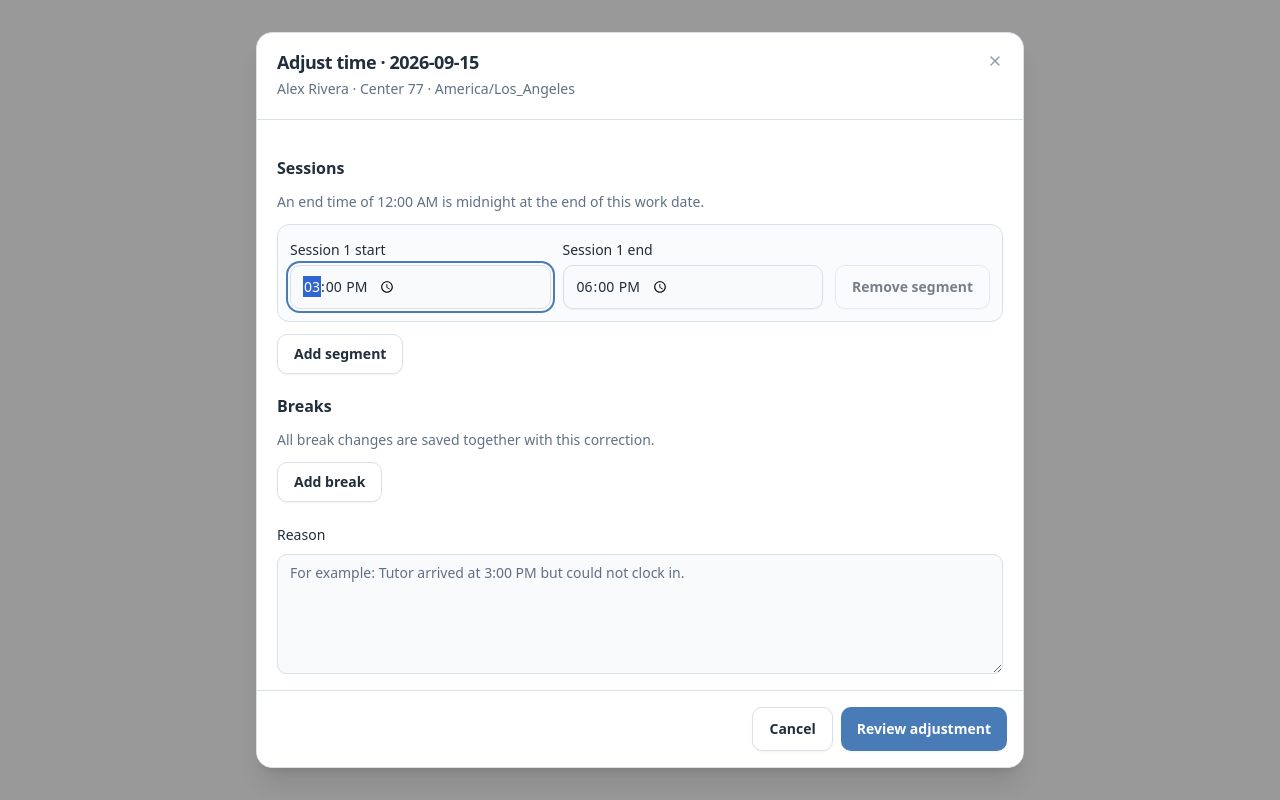
Test: stale child replacement can restart from latest while keeping prior edits visible
Replace the text in the time field labelled "Session 1 end" with "18:15" at point(693, 287), box [562,265,823,309]
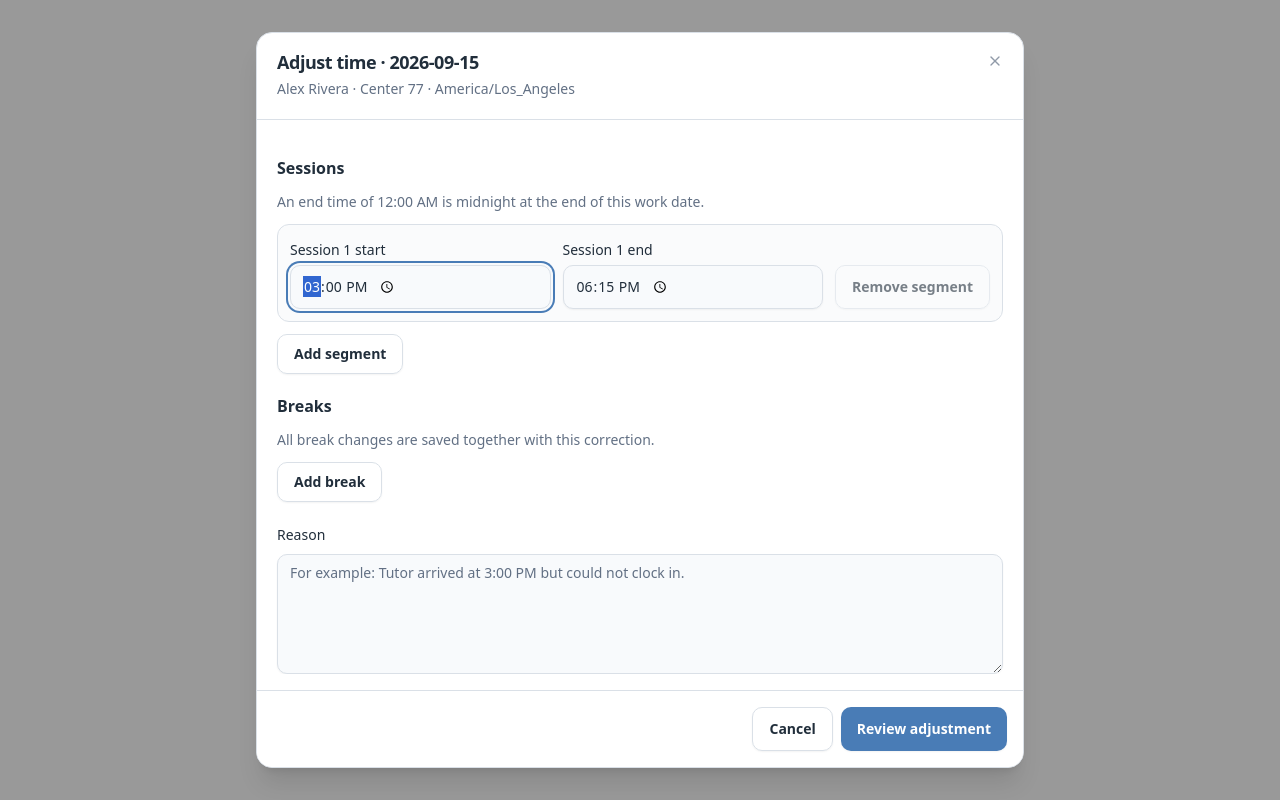
Replace the text in the text box labelled "Reason" with "Correct session end" at point(640, 614), box [277,554,1003,674]
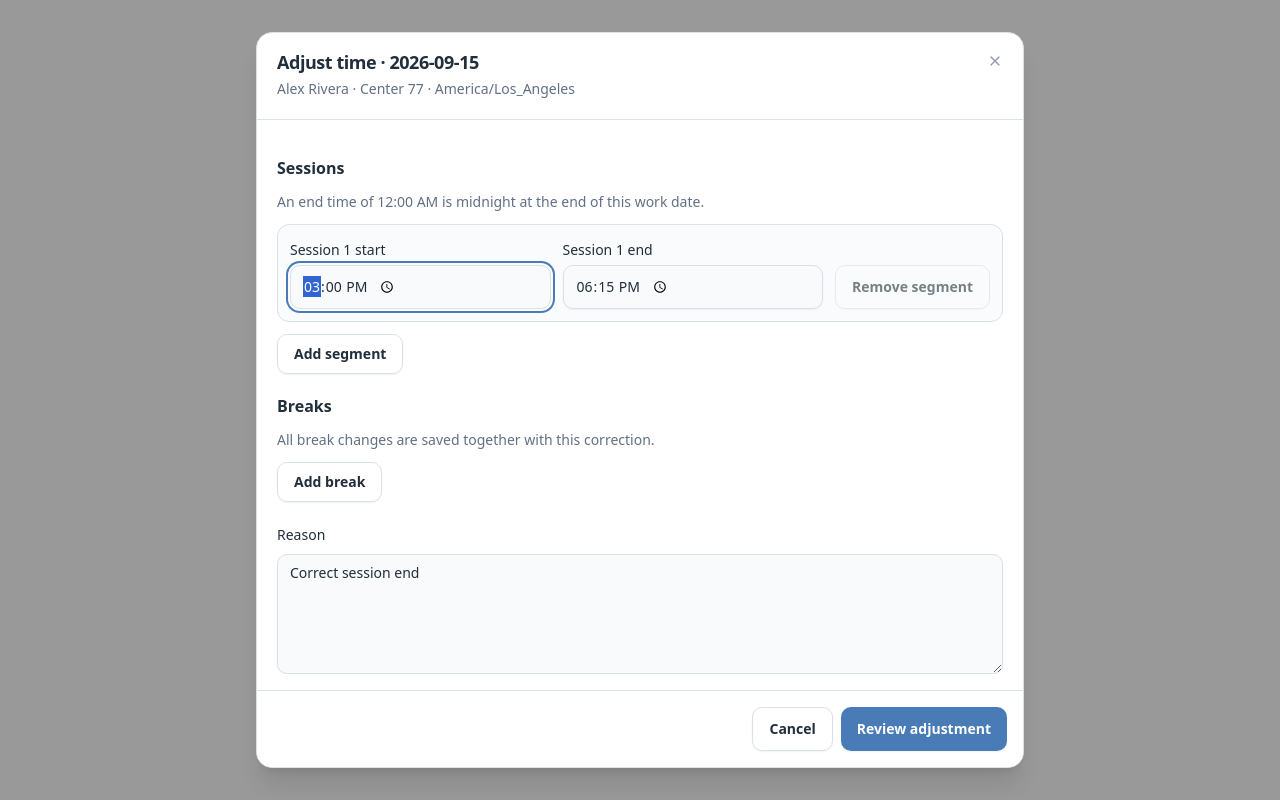
Click the button "Review adjustment" at point(924, 729), box [841,707,1007,751]
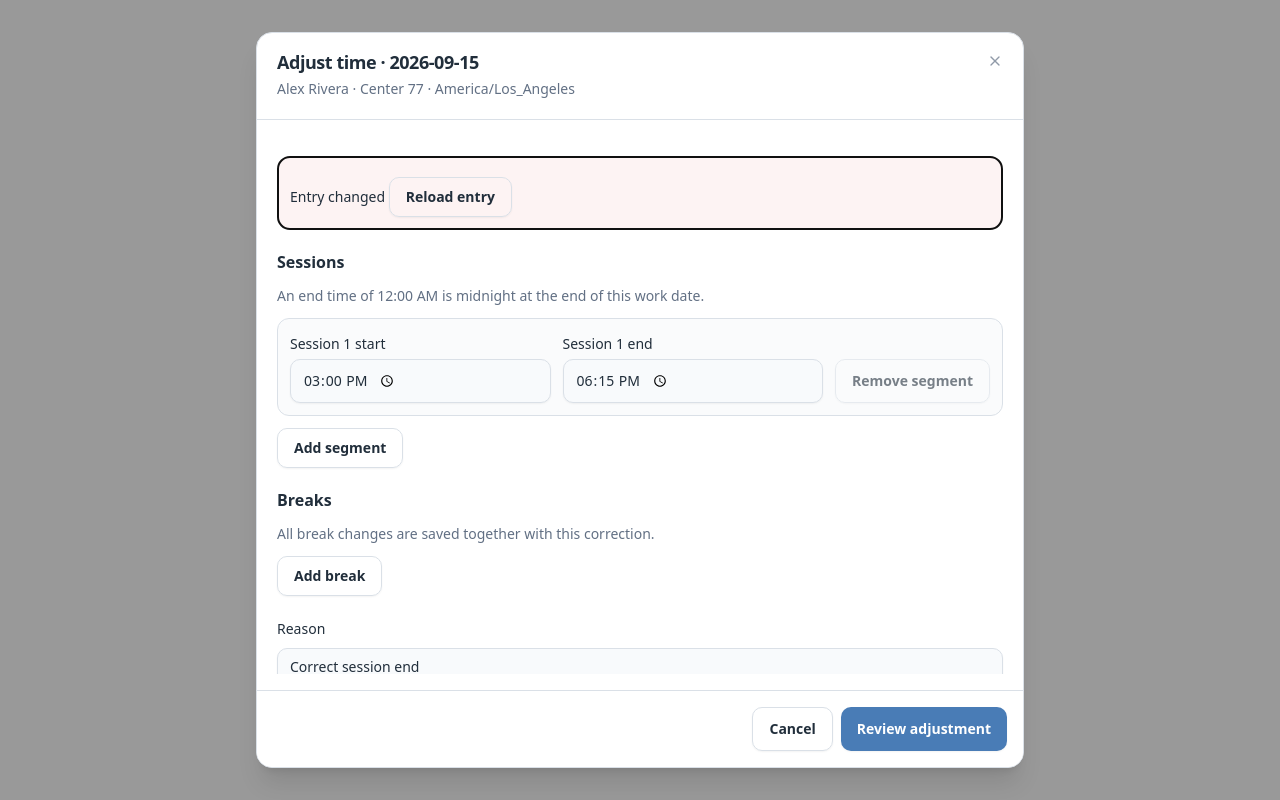
Click the button "Reload entry" at point(450, 197), box [389,177,512,217]
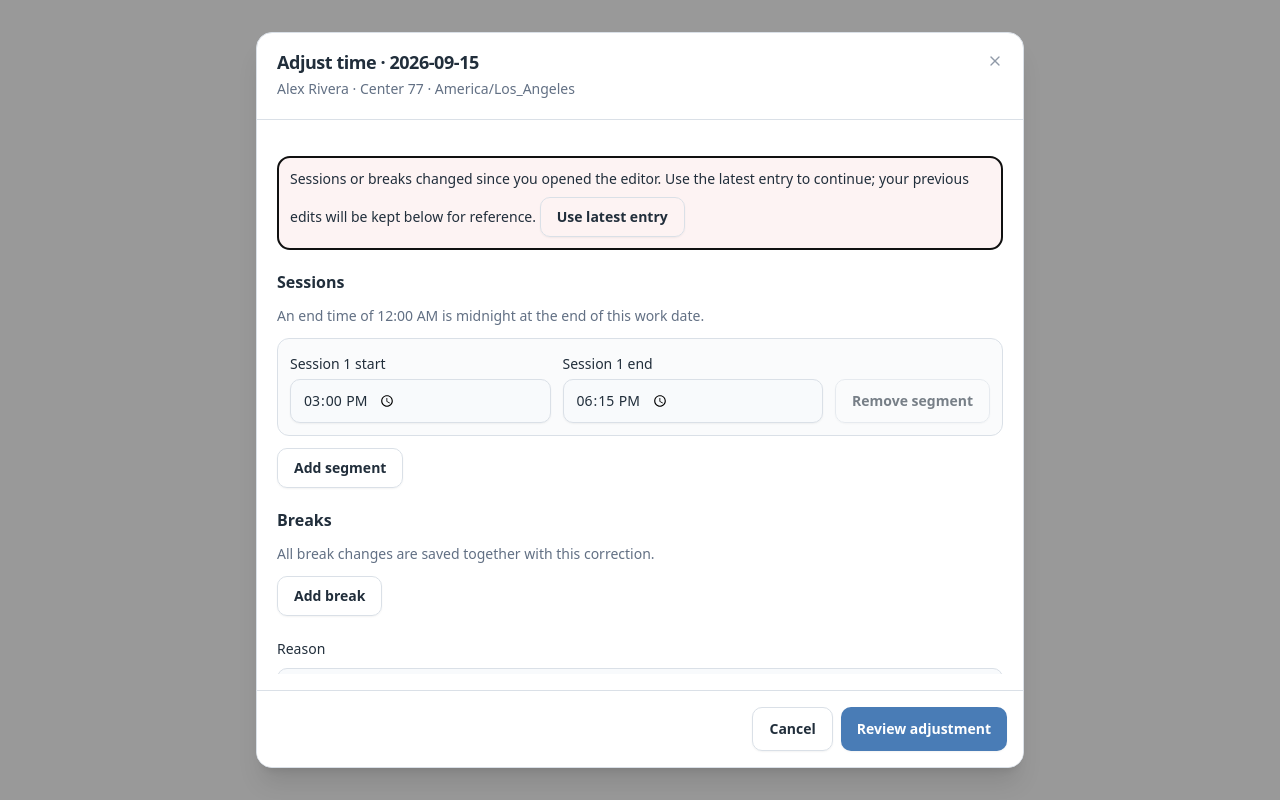
Click the button "Use latest entry" at point(612, 217), box [540,197,685,237]
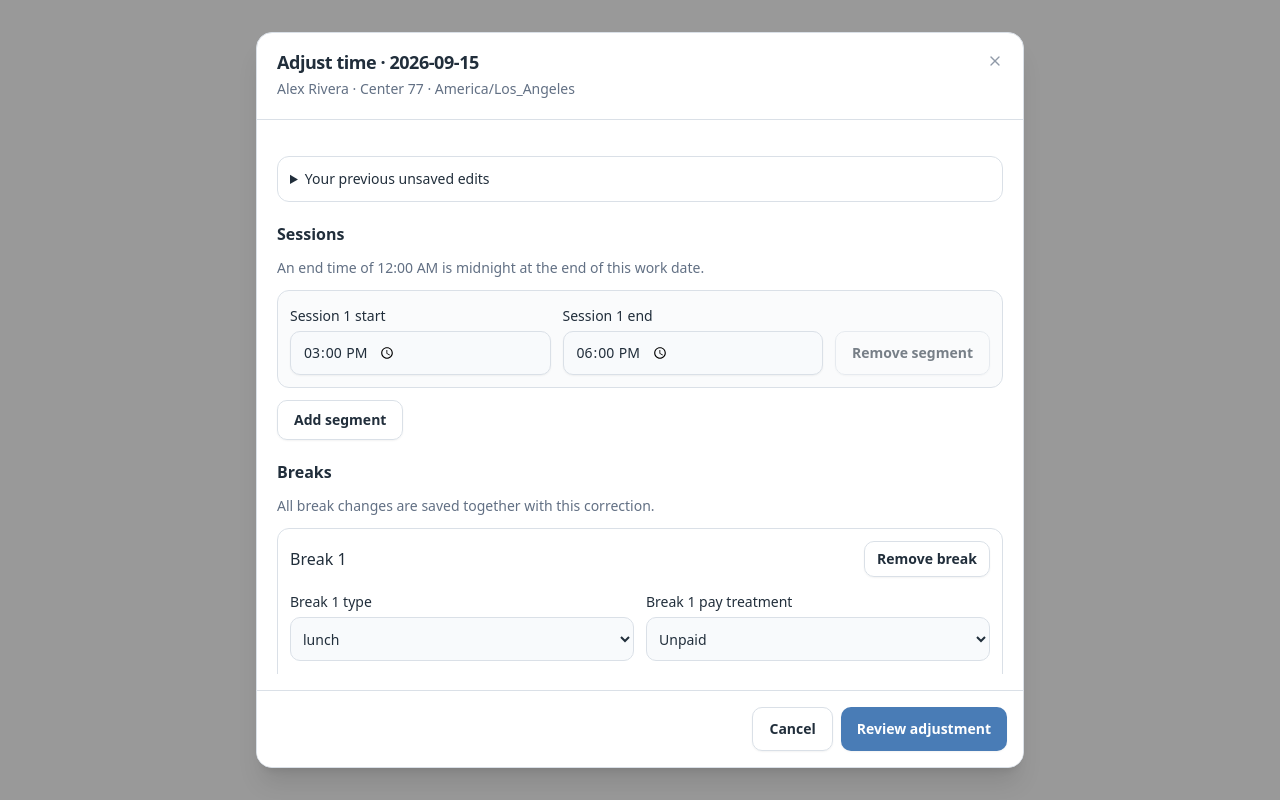
Result: the heading "Your previous unsaved edits" is shown at [305,169,490,188]
Click the button "Review adjustment" at point(924, 729), box [841,707,1007,751]
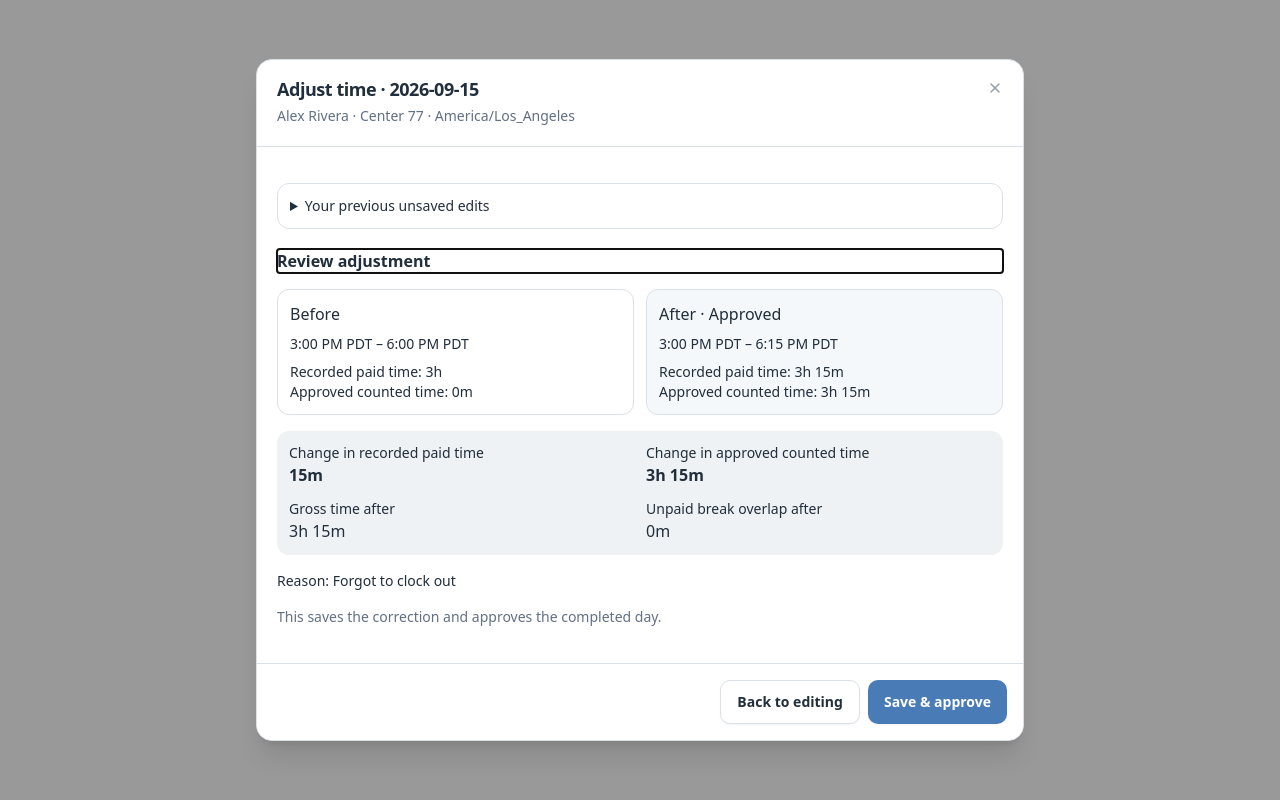
Result: the button "Save & approve" is shown at [868,680,1007,724]
